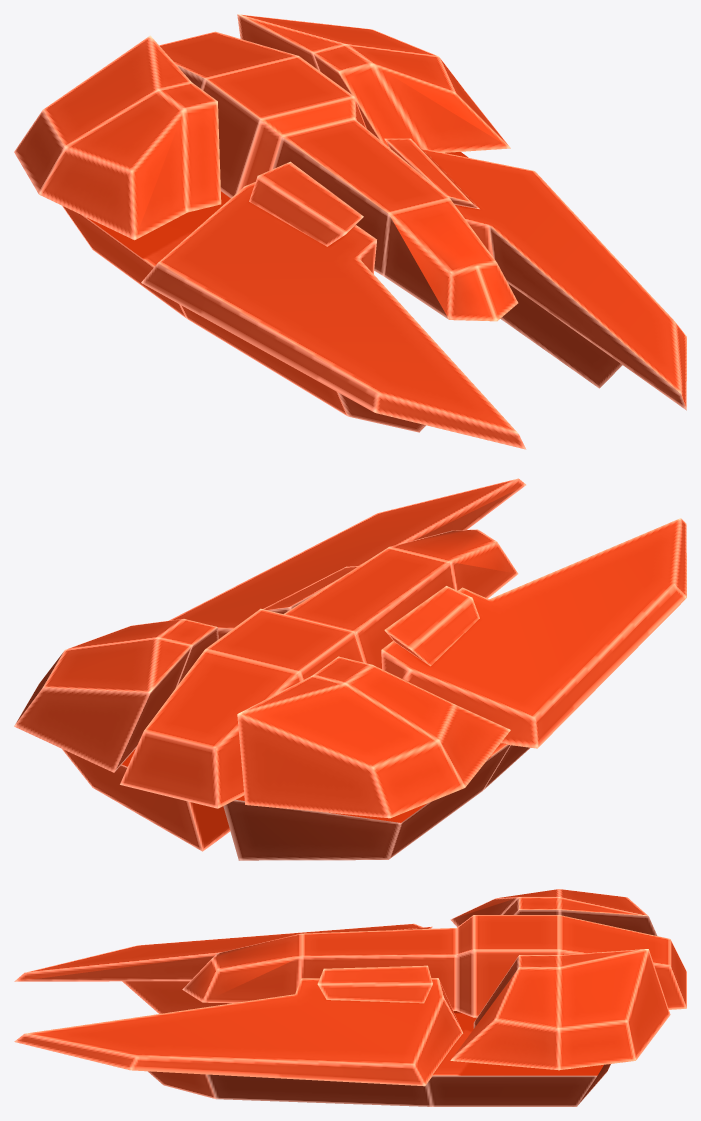
Rendered from enemy_gas_hauler.FBX.
3 views of the same model, one above another, from view 1: azimuth 30°, elevation 25°; view 2: azimuth 150°, elevation 25°; view 3: azimuth 270°, elevation 25° (orthographic). The views are drawn at different scales.
Visible parts, largest first — view 1: Gas_hauler_enemy; view 2: Gas_hauler_enemy; view 3: Gas_hauler_enemy.
Part boxes in pixels (x1,y1,x2,y2): Gas_hauler_enemy: (14, 14, 686, 449); Gas_hauler_enemy: (14, 478, 686, 860); Gas_hauler_enemy: (14, 889, 686, 1106).
Size of the model in its own units: 52.47 by 20.28 by 93.33.
